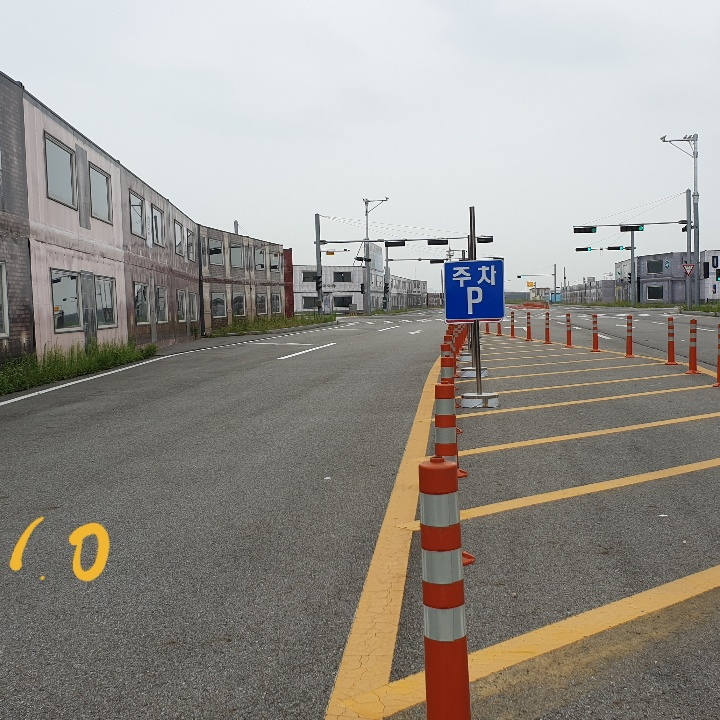parking: (463, 280, 486, 318)
